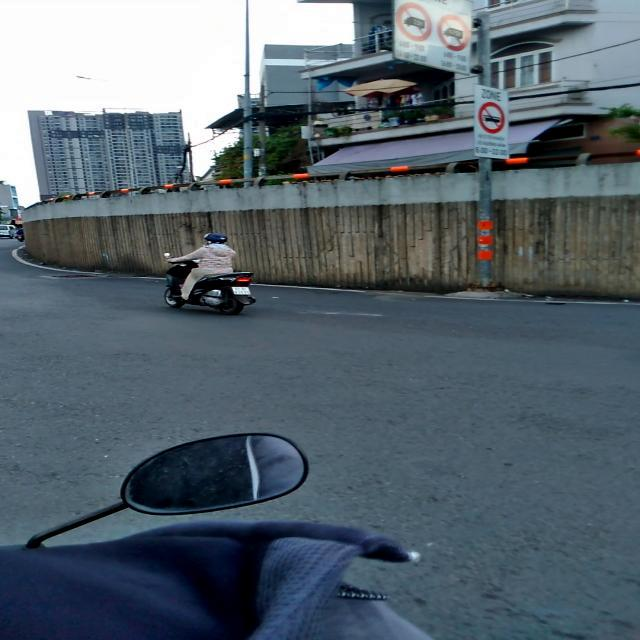Han che chieu cao: (397, 1, 432, 44), (436, 9, 468, 54), (478, 100, 502, 137)
